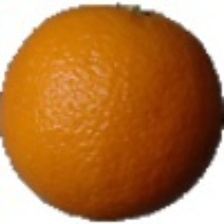orange: (60, 21, 207, 179)
